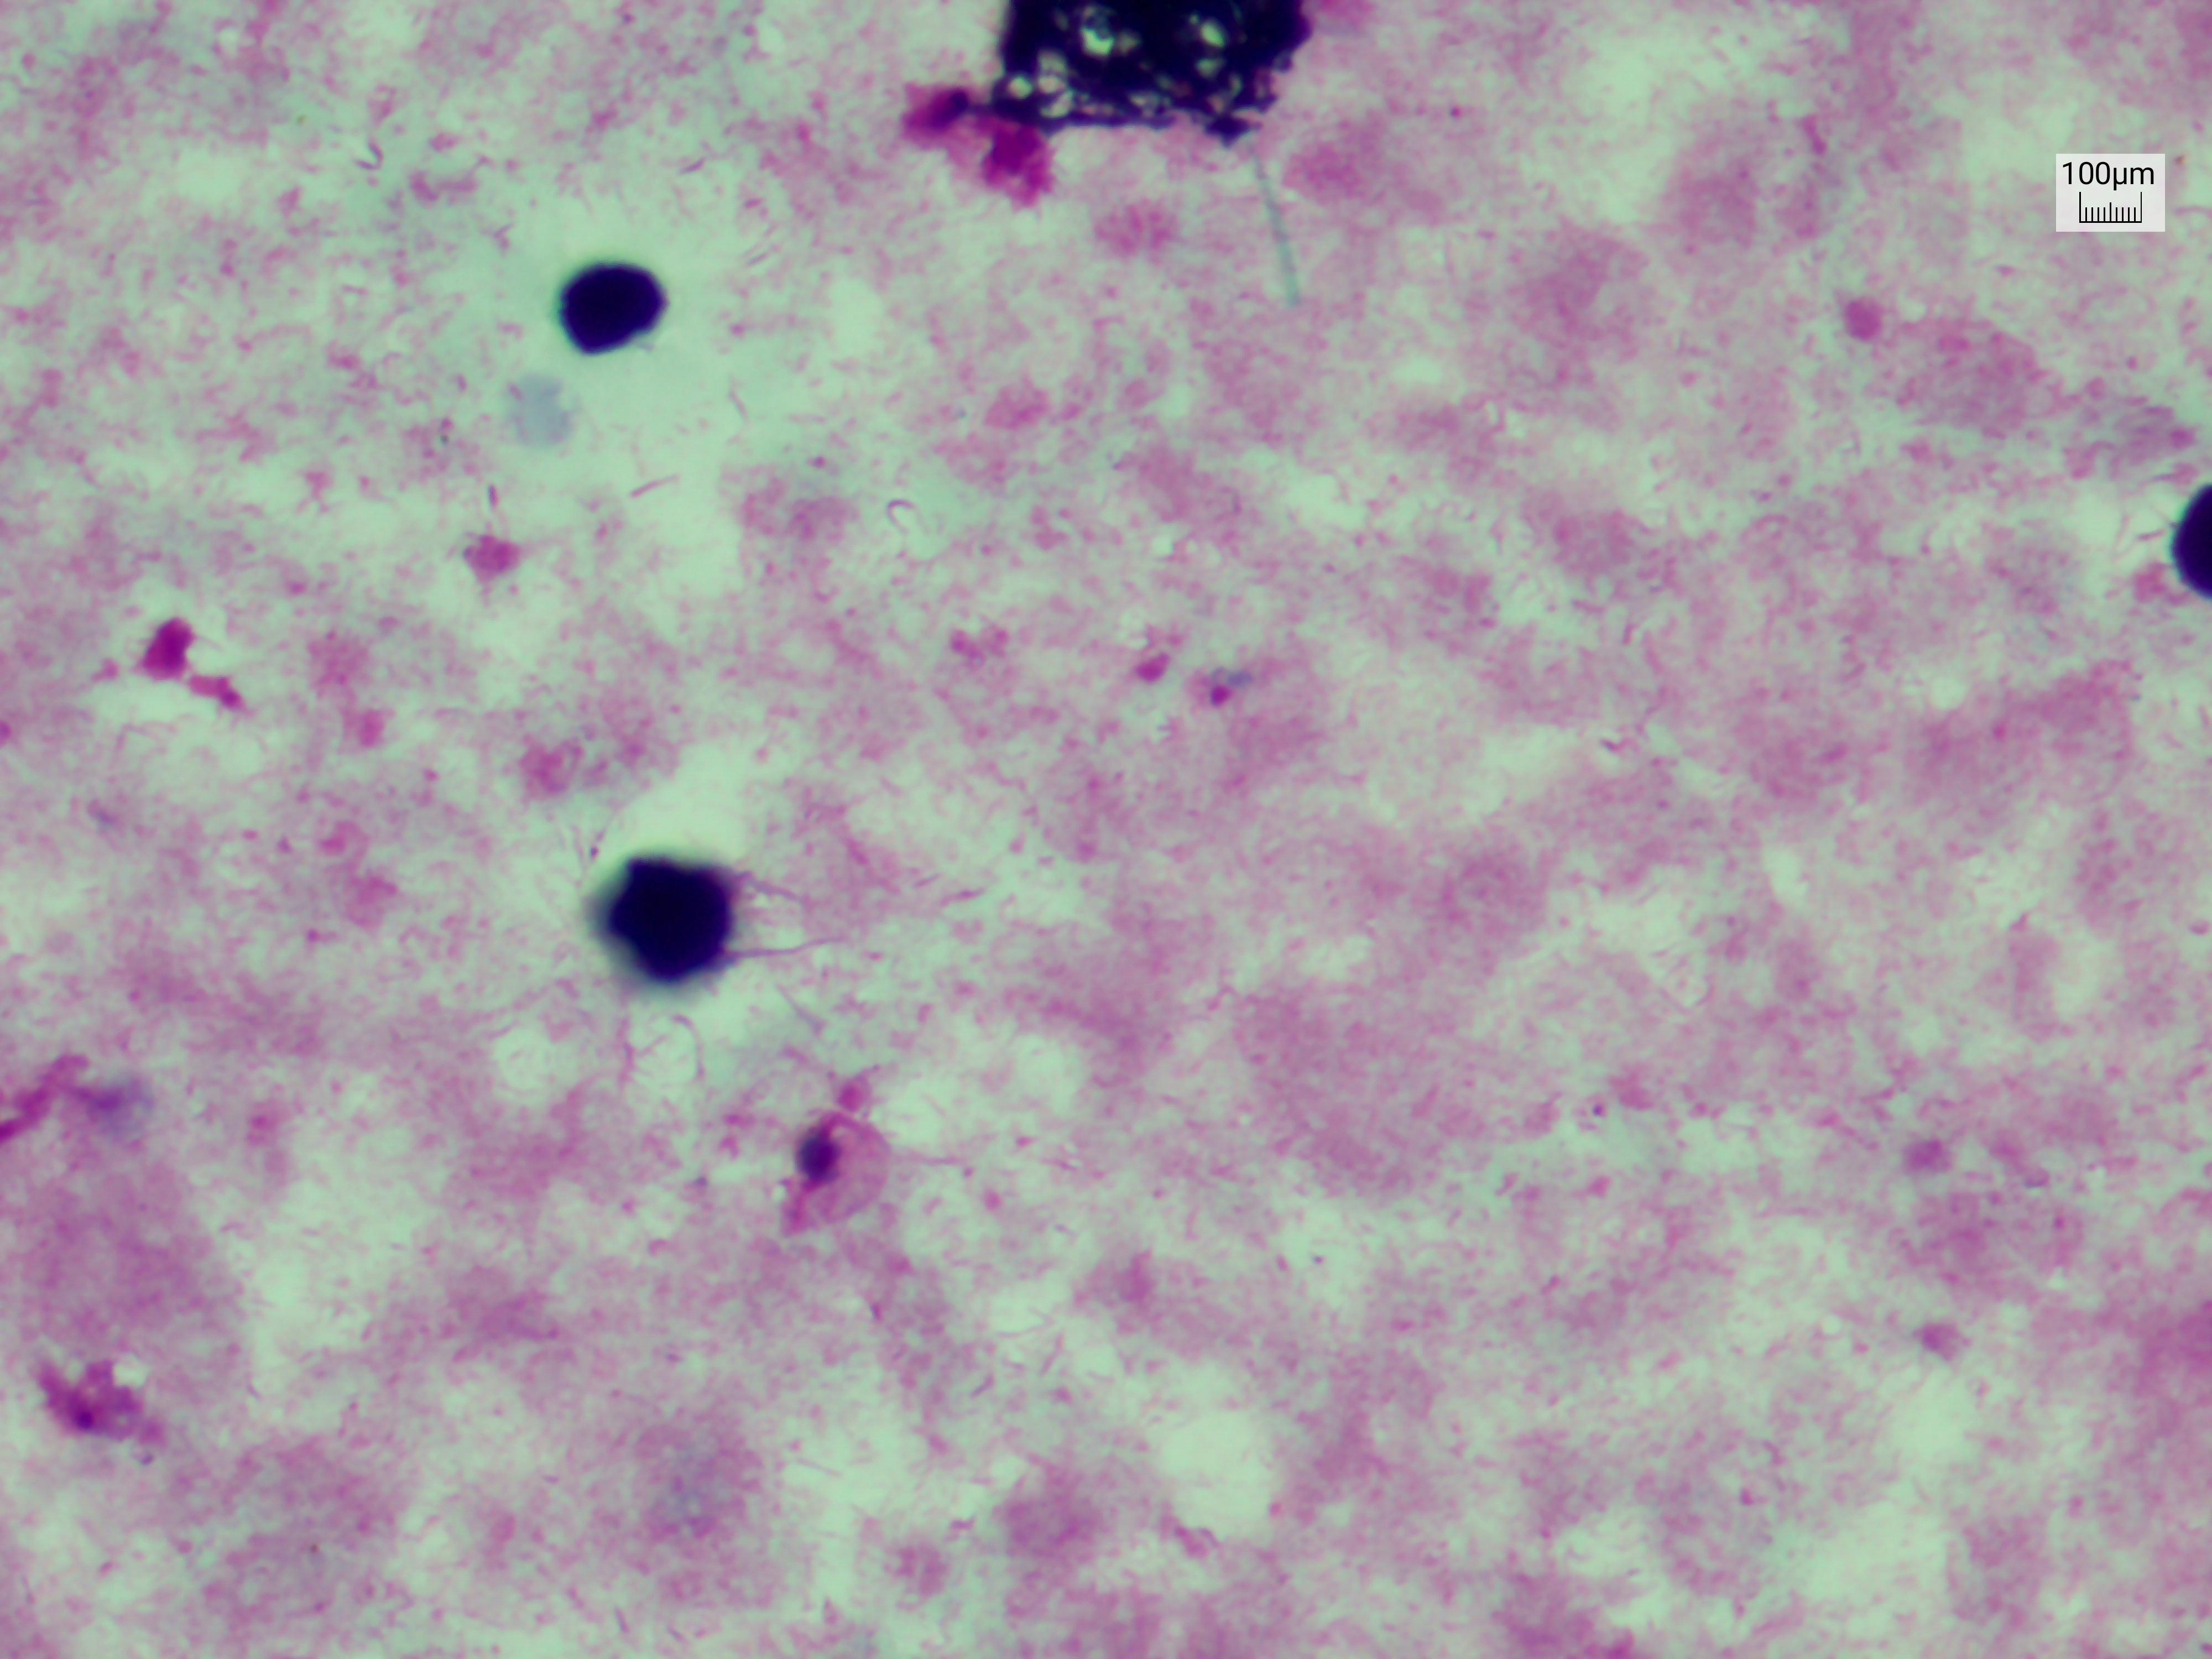p.vivax: (773, 1054, 894, 1256), (1195, 641, 1252, 739)
